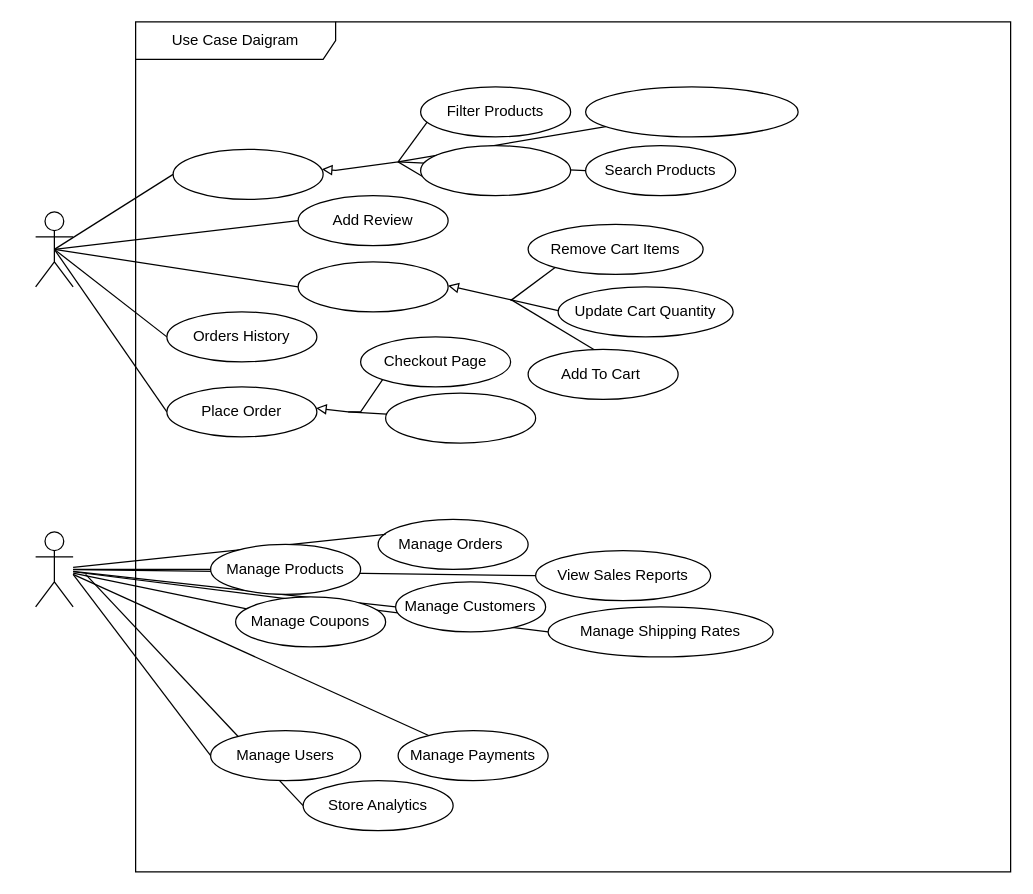
This 1033x894 diagram has some shape labels left out. The shapes that lost their labels are listed below. From the top down, each one's centre as x and y in pixels, then its label:
At point (691, 111): "Browse Products Catalogue".
At point (247, 173): "Naviguer".
At point (495, 170): "View Product Page".
At point (53, 249): "Customer".
At point (372, 286): "Manage Cart".
At point (460, 417): "Make Payment".
At point (53, 569): "Admin".
